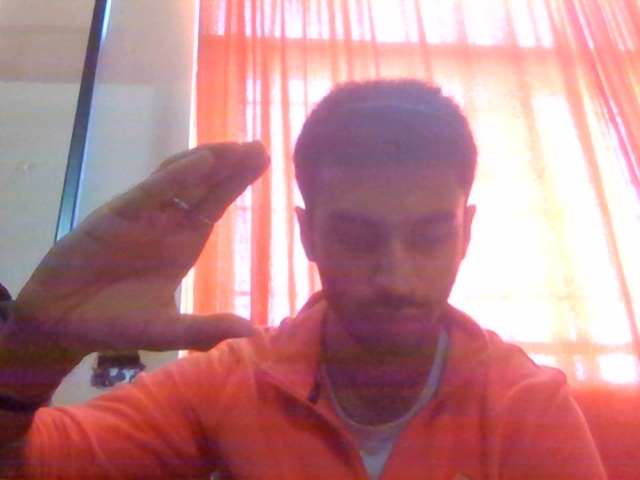C: (14, 119, 284, 417)
